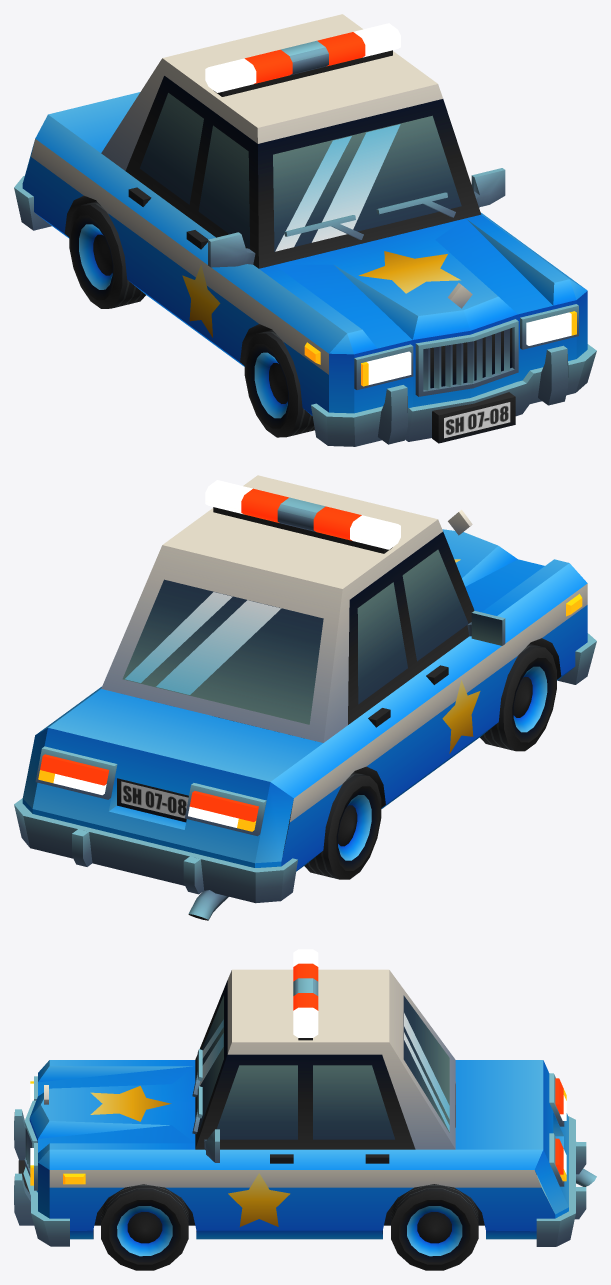
File: car.Police.glb
The picture shows the model from 3 angles, top to bottom: view 1: azimuth 30°, elevation 25°; view 2: azimuth 150°, elevation 25°; view 3: azimuth 270°, elevation 25°; orthographic projection. The views are drawn at different scales.
Parts seen in each view (by area): view 1: car.Police; view 2: car.Police; view 3: car.Police.
Boxes of the visible parts, <box> form: car.Police: <box>14,14,596,446</box>; car.Police: <box>14,475,596,920</box>; car.Police: <box>14,949,596,1270</box>.
Size of the model in its own units: 2.28 by 2.08 by 4.73.
1 material, 1 textured.
